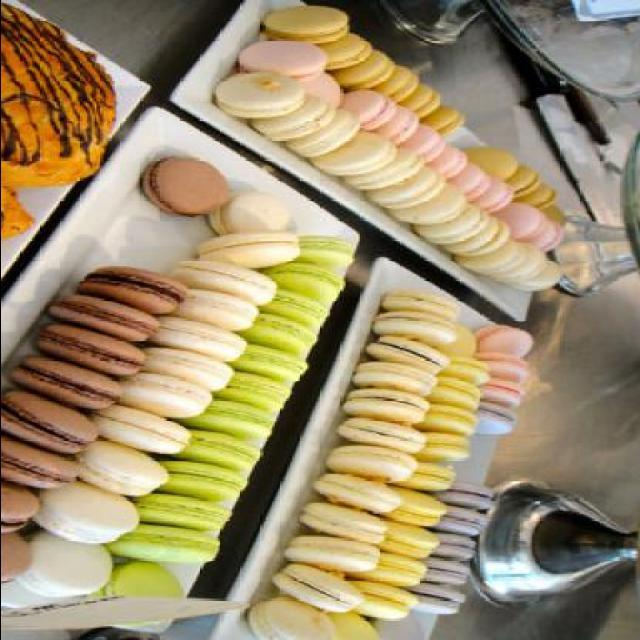Macaron: (29, 10, 576, 639)
